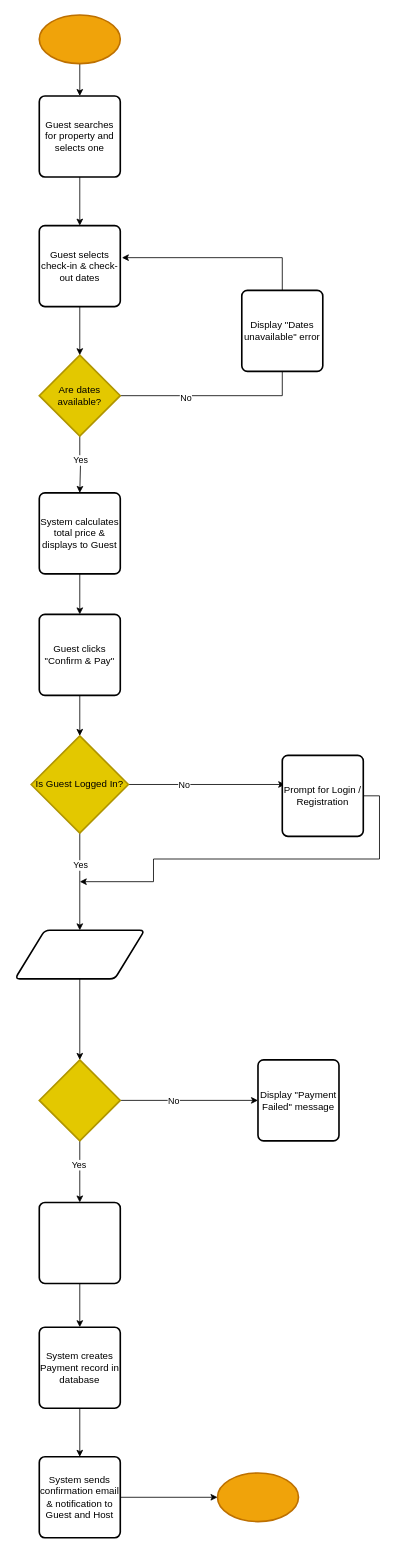
Some shapes in this 400 by 1552 pixel diagram are drawn without their labels. Each missing label, with the box of its shape:
End: (216, 1472, 299, 1522)
Guest enters payment details o n Payment Gateway: (14, 929, 145, 979)
Payment Successful?: (38, 1059, 121, 1141)
Start: (38, 14, 121, 64)
System creates Booking record in database (status: 'confirmed'): (38, 1201, 121, 1284)
